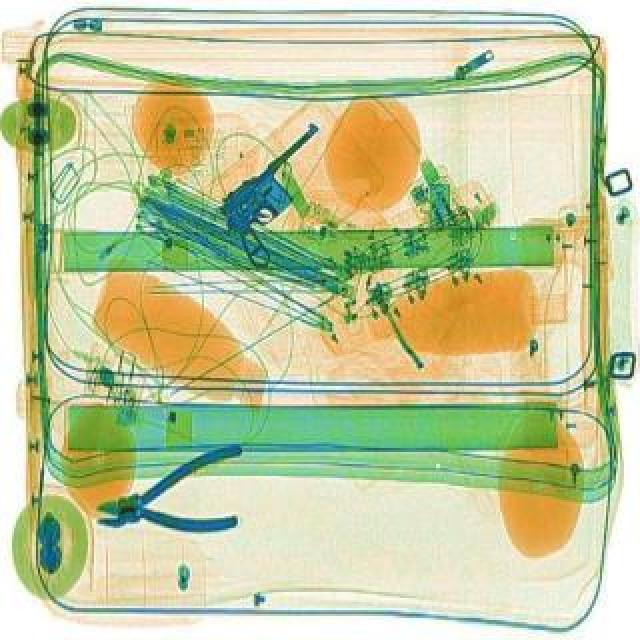gun: (200, 126, 372, 278)
wrench: (86, 446, 260, 558)
